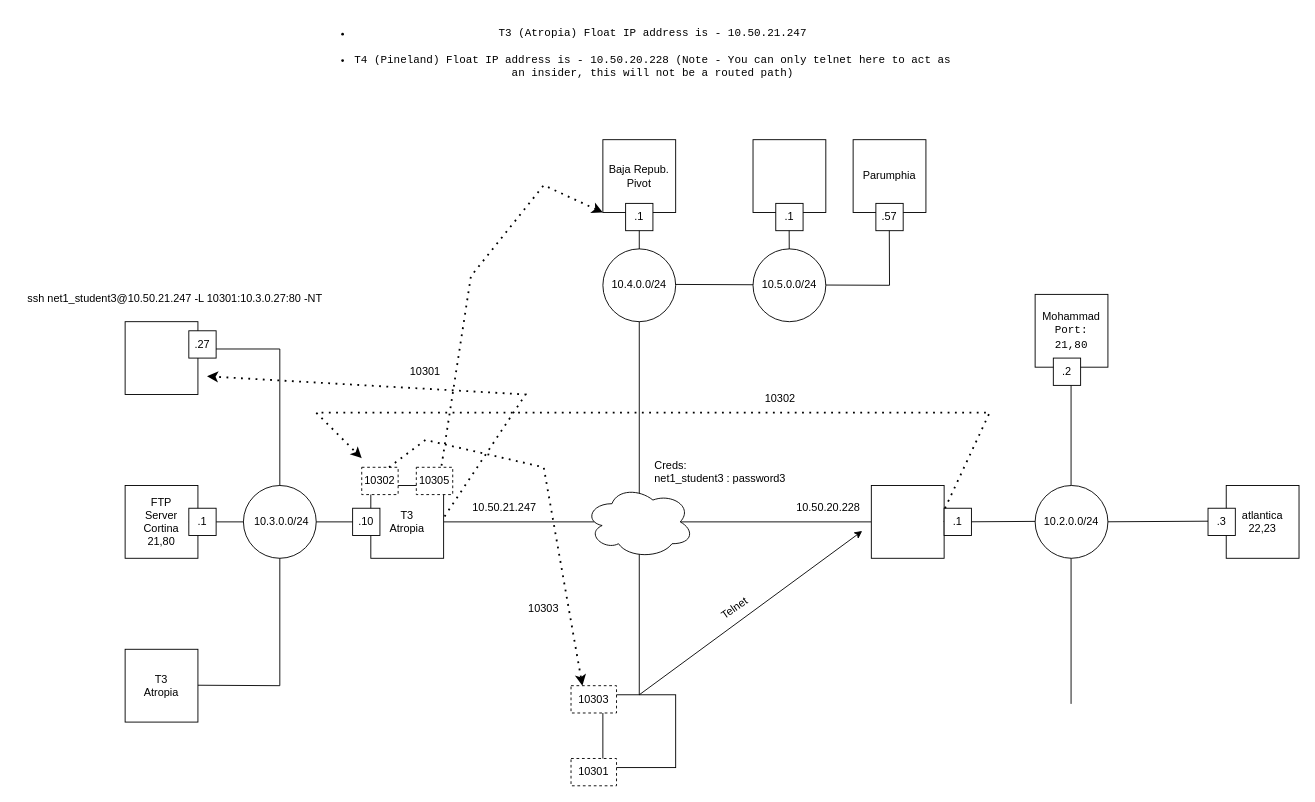
The diagram is 1315 pixels wide and 802 high, and some of its shapes have lost their labels. The centre of each missing label's shape, as x and y in pixels:
"HTTP Server Victoria 21,80" belongs at (x=161, y=357).
"IH 10.10.0.40" belongs at (x=639, y=731).
"Mojave" belongs at (x=789, y=175).
"T4 Pineland port 22,23,80" belongs at (x=907, y=521).
